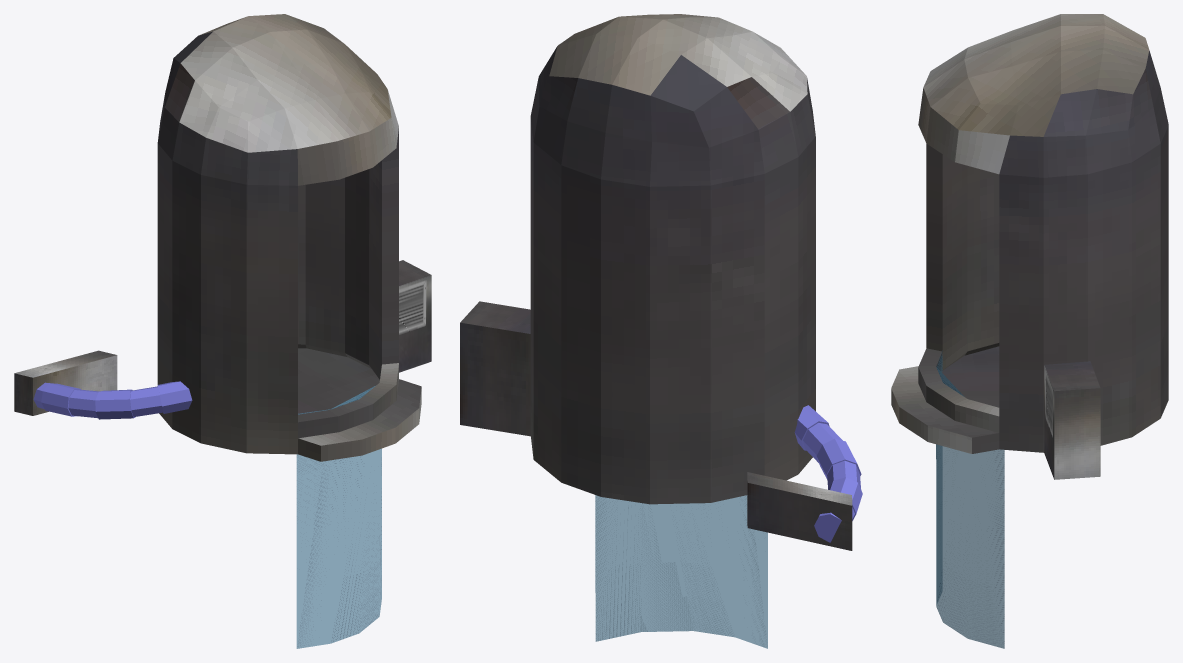
3 views of the same model, side by side, from view 1: azimuth 30°, elevation 25°; view 2: azimuth 150°, elevation 25°; view 3: azimuth 270°, elevation 25° (orthographic). The views are drawn at different scales.
Parts seen in each view (by area): view 1: Roundcube, Roundcube.001, Cylinder, Cube.001, Cube; view 2: Roundcube, Roundcube.001, Cube, Cube.001, Cylinder; view 3: Roundcube, Roundcube.001, Cube.
Part boxes in pixels (x1,y1,x2,y2): Roundcube: [157, 14, 421, 461]; Roundcube.001: [296, 385, 381, 648]; Cylinder: [33, 381, 192, 419]; Cube.001: [14, 350, 117, 415]; Cube: [399, 260, 431, 372]; Roundcube: [530, 14, 815, 504]; Roundcube.001: [595, 495, 767, 648]; Cube: [460, 301, 530, 436]; Cube.001: [747, 472, 852, 550]; Cylinder: [794, 405, 862, 542]; Roundcube: [891, 14, 1168, 453]; Roundcube.001: [936, 350, 1004, 648]; Cube: [1044, 361, 1100, 479].
Size of the model in its own units: 3.39 by 5.02 by 2.17.
Materials: 4 (3 with a texture image).
